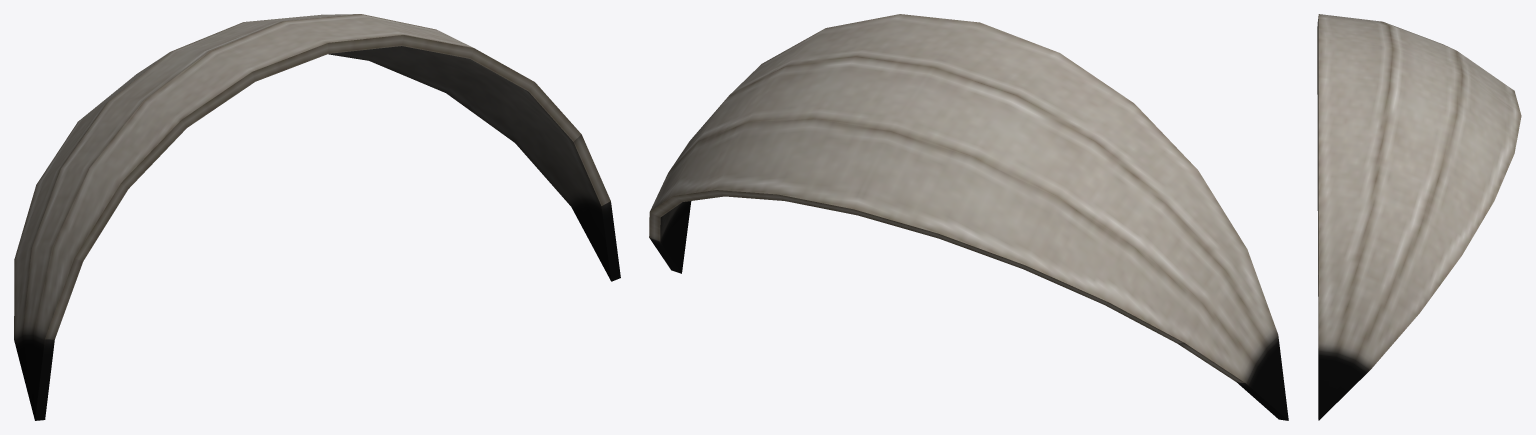
The model's file is kristall telescope door.obj.
The picture shows the model from 3 angles, left to right: view 1: azimuth 30°, elevation 25°; view 2: azimuth 150°, elevation 25°; view 3: azimuth 270°, elevation 25°; orthographic projection. The views are drawn at different scales.
Parts seen in each view (by area): view 1: door2; view 2: door2; view 3: door2.
Boxes of the visible parts, <box> form: door2: <box>14,14,620,420</box>; door2: <box>649,14,1288,420</box>; door2: <box>1317,14,1521,420</box>.
Bounding box in the file's own units: 0.7375 × 0.3702 × 0.2624.
Materials: 1 (1 with a texture image).
